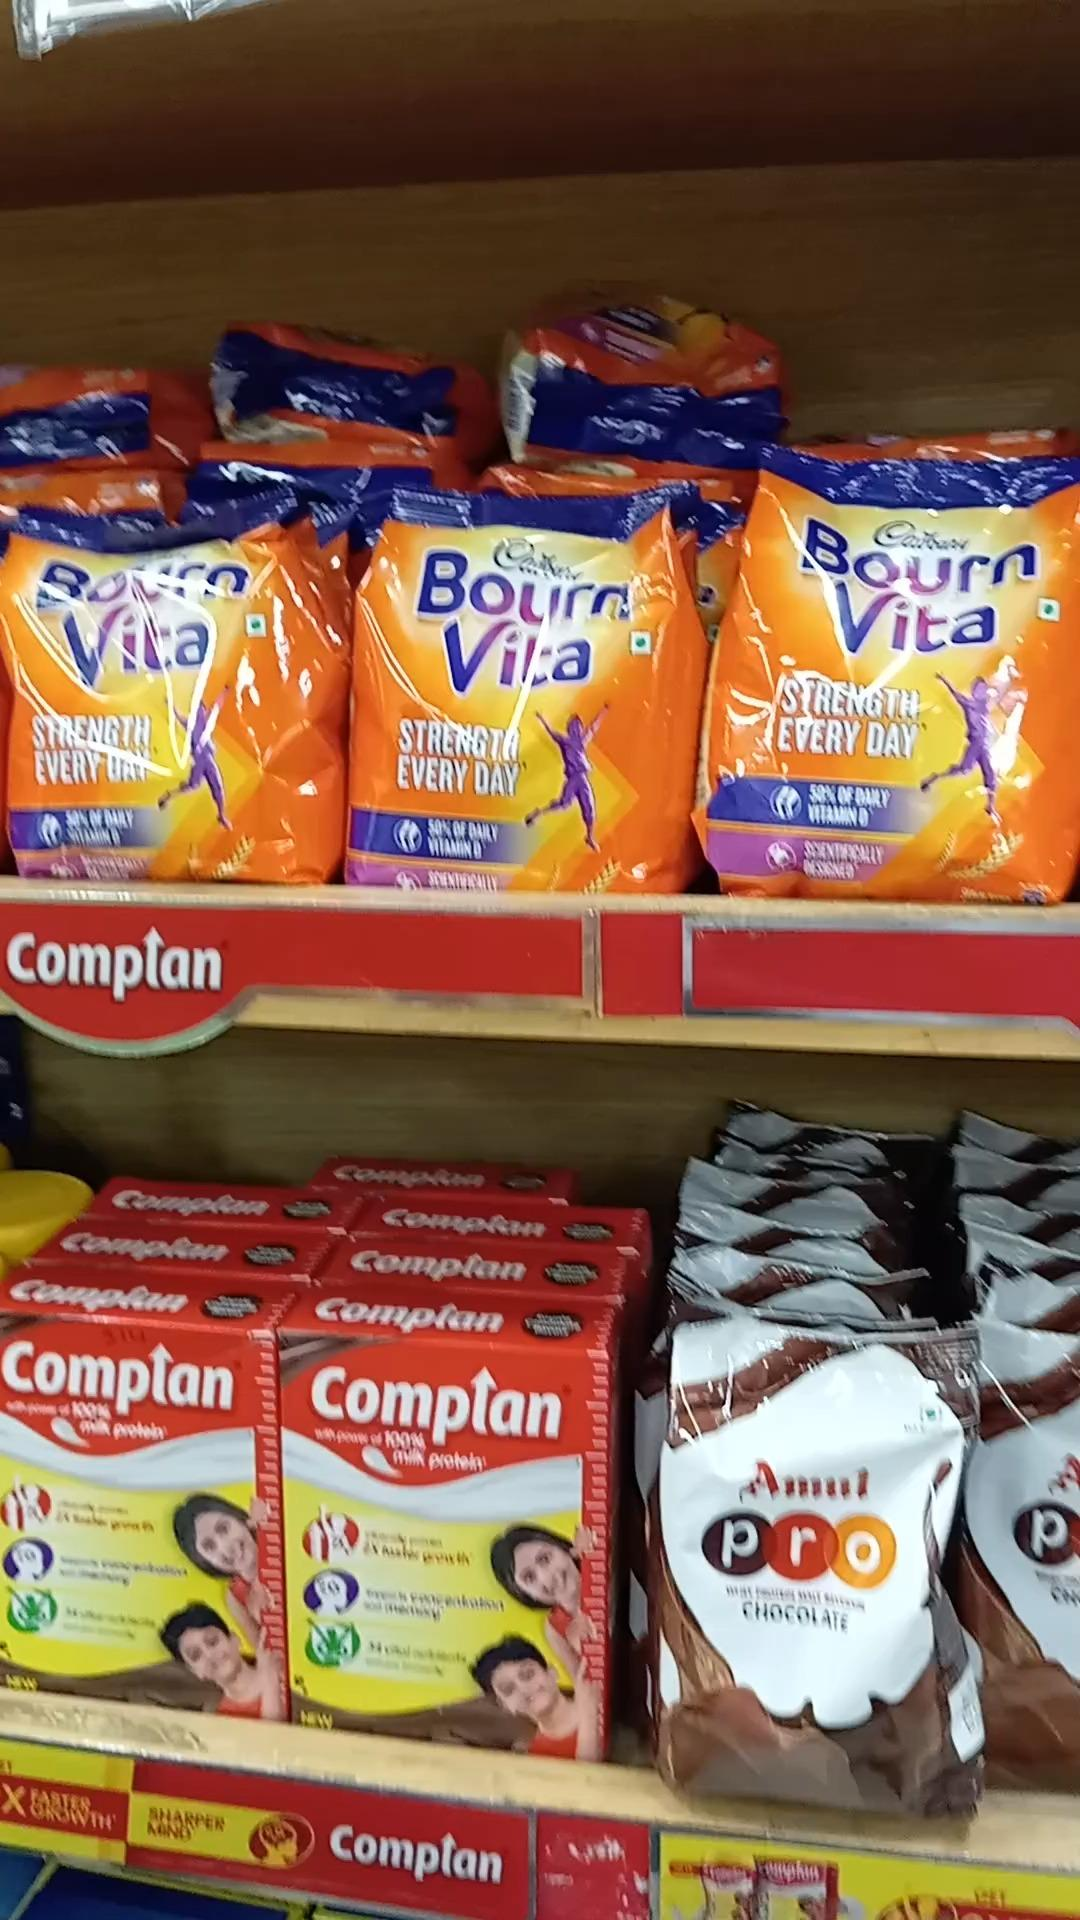BOURN_VITA_500_G_POUCH: (696, 471, 1080, 893), (0, 506, 336, 880), (355, 492, 679, 877)
COMPLAN_CHOCOLATE_500_GMS_PACK: (291, 1340, 617, 1735), (0, 1323, 278, 1701)
